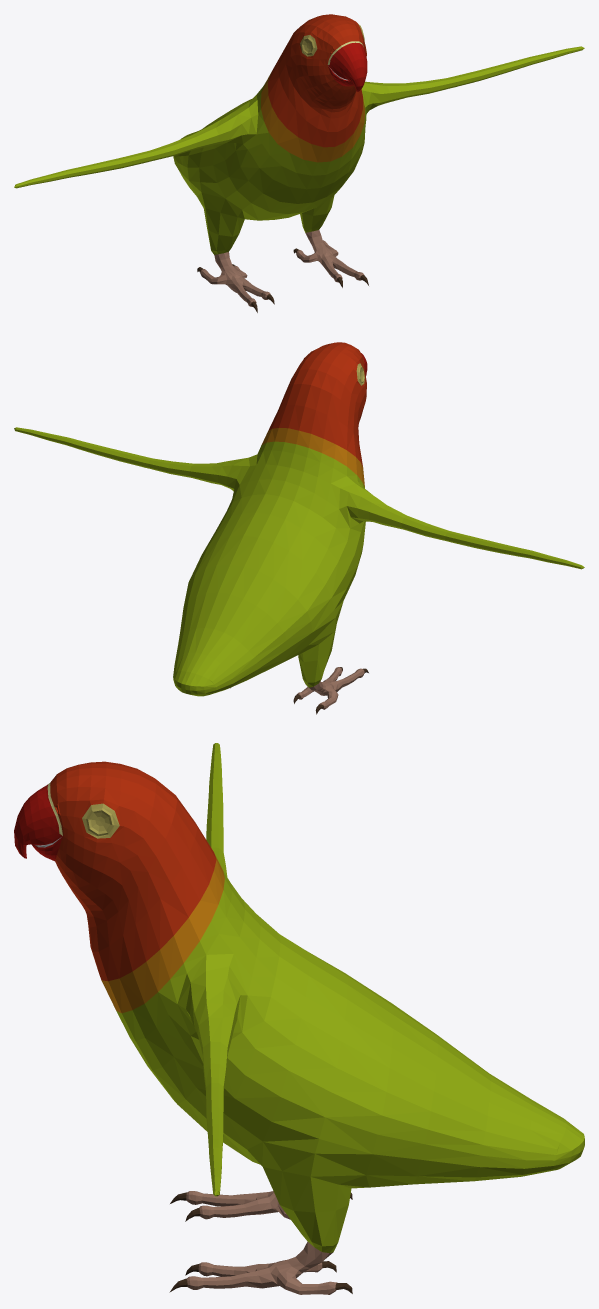
File: lovebird_lovebird.obj
3 views of the same model, one above another, from view 1: azimuth 30°, elevation 25°; view 2: azimuth 150°, elevation 25°; view 3: azimuth 270°, elevation 25° (orthographic). The views are drawn at different scales.
Bounding box in the file's own units: 0.2021 × 0.1003 × 0.1079.
